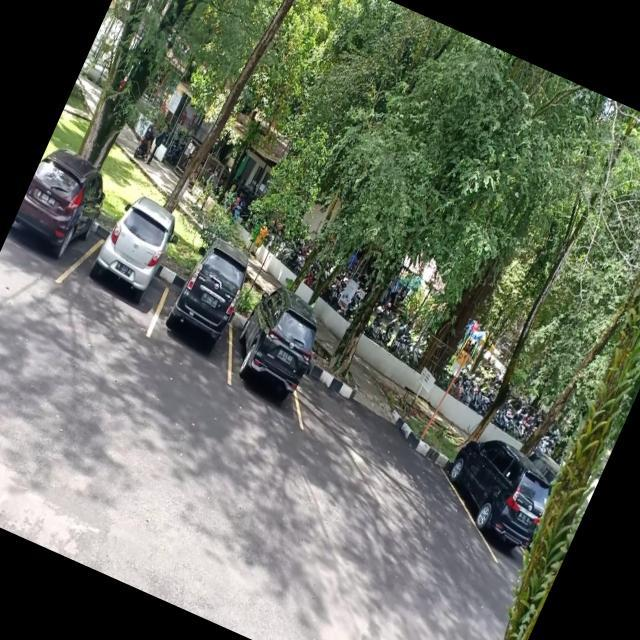occupied: (430, 440, 560, 560), (216, 294, 330, 414), (68, 219, 184, 328), (0, 168, 107, 285), (148, 262, 252, 365)
